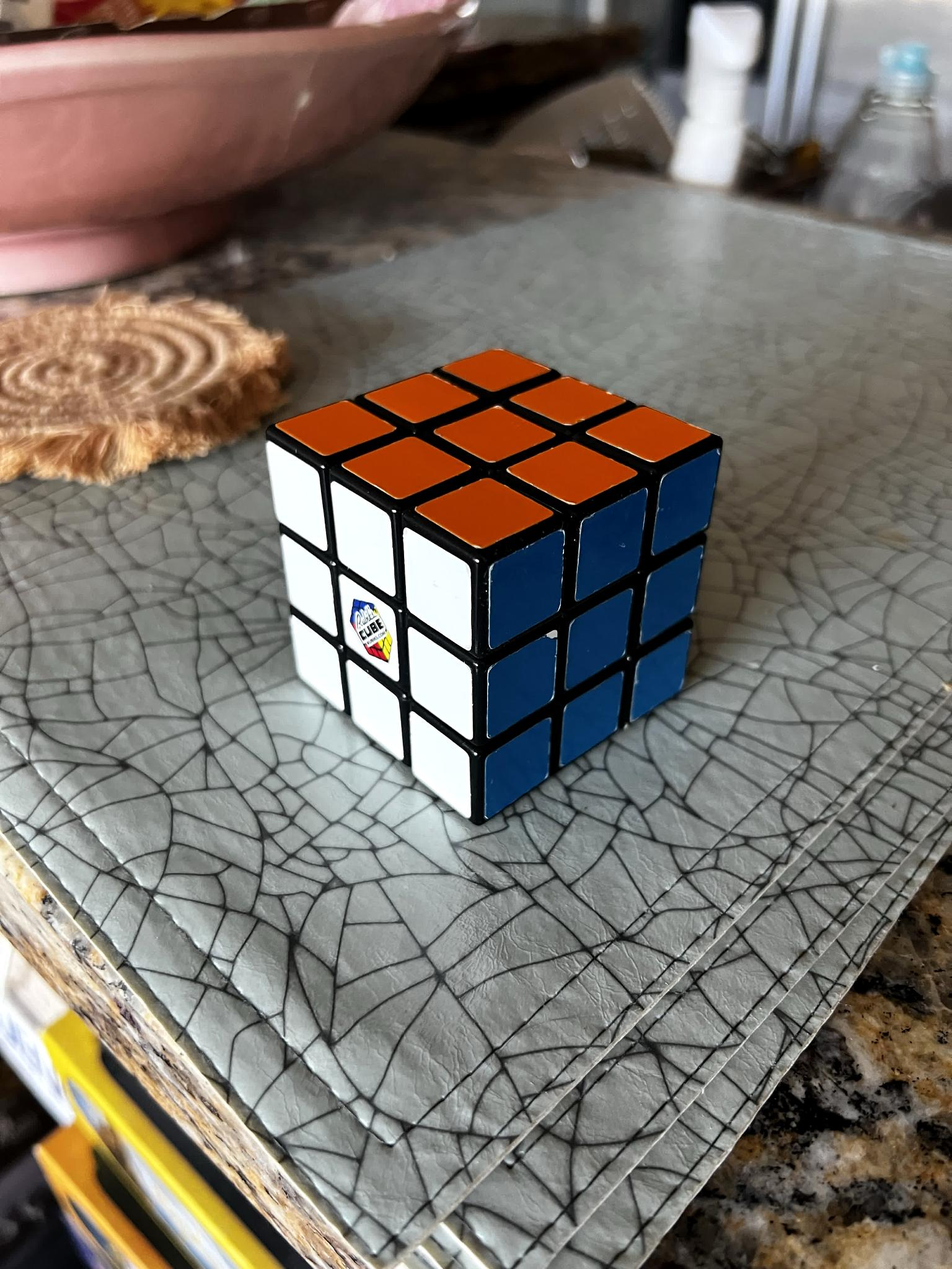rubiks_cube: (268, 349, 719, 818)
